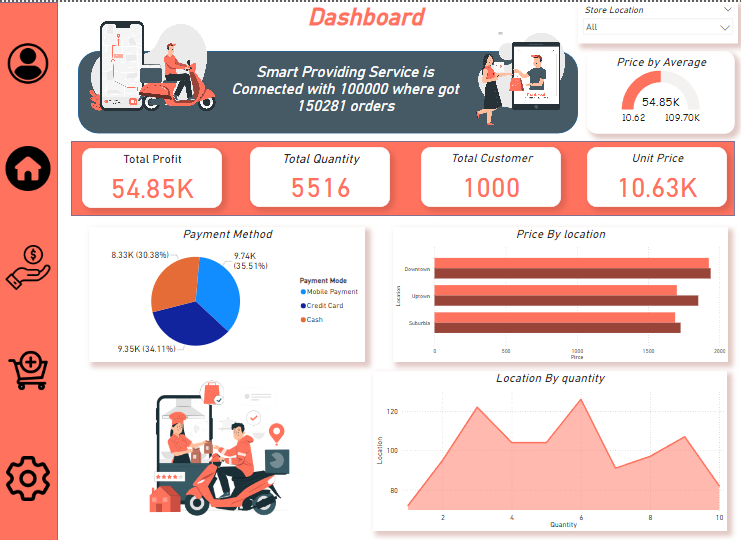

Layout of this report page (visuals, bound fields, positions):
{"tool":"powerbi","page":{"name":"Page 2","canvas":[1500,1080],"ordinal":1},"visuals":[{"type":"textbox","title":"Dashboard","box":[455,0,557.5,70],"z":0},{"type":"shape","box":[0,0,120,1140],"z":1000},{"type":"image","box":[10,67.5,100,110],"z":2000},{"type":"shape","box":[160,97.5,1000,165],"z":3000},{"type":"textbox","title":"Smart Providing Service is Connected with 100000 where got 150281 orders","box":[440,122.5,507.5,115],"z":4000},{"type":"image","box":[10,277.5,100,110],"z":5000},{"type":"image","box":[10,682.5,100,110],"z":6000},{"type":"image","box":[130,7.5,337.5,235],"z":7000},{"type":"shape","box":[865,200,140,40],"z":8000},{"type":"image","box":[10,897.5,100,110],"z":9000},{"type":"image","box":[10,475,100,110],"z":10000},{"type":"slicer","title":"Store Location","fields":{"Values":["data.store_location"]},"box":[1160,0,320,82.5],"z":11000},{"type":"clusteredBarChart","title":"Price By location","fields":{"Category":["data.store_location"],"Y":["Sum(data.unit_price)","Sum(data.quantity)"]},"box":[790,450,670,270],"z":12000},{"type":"pieChart","title":"Payment Method","fields":{"Category":["data.payment_method"],"Y":["Sum(data.total_price)"]},"box":[182.5,450,552.5,270],"z":13000},{"type":"shape","box":[145,277.5,1327.5,150],"z":14000},{"type":"stackedAreaChart","title":"Location By quantity ","fields":{"Category":["data.quantity"],"Y":["CountNonNull(data.store_location)"]},"box":[750,737.5,707.5,320],"z":15000},{"type":"image","box":[935,52.5,217.5,210],"z":16000},{"type":"gauge","title":"Price by Average","fields":{"Y":["Sum(data.total_price)"],"MinValue":["Avg(data.unit_price)"]},"box":[1177.5,97.5,295,165],"z":17000},{"type":"image","box":[182.5,737.5,515,317.5],"z":18000},{"type":"card","title":"Total Profit","fields":{"Values":["Sum(data.total_price)"]},"box":[167.5,292,280,120],"z":18500,"group":"g1"},{"type":"card","title":"Total Quantity","fields":{"Values":["Sum(data.quantity)"]},"box":[502.5,290,280,120],"z":19000,"group":"g1"},{"type":"group","id":"g1","title":"Group 1","box":[167.5,290,1290,122],"z":19000},{"type":"card","title":"Total Customer","fields":{"Values":["Count(data.transaction_id)"]},"box":[845,290,280,120],"z":19500,"group":"g1"},{"type":"card","title":"Unit Price","fields":{"Values":["Sum(data.unit_price)"]},"box":[1177.5,290,280,120],"z":20000,"group":"g1"}]}

Visuals, with their boxes on the page's 1500x1080 design canvas (x1, y1, x2, y2). These are canvas units, not pixel positions in the 741x540 screenshot, which may show the page scaled, cropped or inside an application window:
"Dashboard" textbox: x1=455, y1=0, x2=1012, y2=70
shape: x1=0, y1=0, x2=120, y2=1140
image: x1=10, y1=68, x2=110, y2=178
shape: x1=160, y1=98, x2=1160, y2=262
"Smart Providing Service is Connected with 100000 where got 150281 orders" textbox: x1=440, y1=122, x2=948, y2=238
image: x1=10, y1=278, x2=110, y2=388
image: x1=10, y1=682, x2=110, y2=792
image: x1=130, y1=8, x2=468, y2=242
shape: x1=865, y1=200, x2=1005, y2=240
image: x1=10, y1=898, x2=110, y2=1008
image: x1=10, y1=475, x2=110, y2=585
"Store Location" slicer: x1=1160, y1=0, x2=1480, y2=82
"Price By location" clusteredBarChart: x1=790, y1=450, x2=1460, y2=720
"Payment Method" pieChart: x1=182, y1=450, x2=735, y2=720
shape: x1=145, y1=278, x2=1472, y2=428
"Location By quantity " stackedAreaChart: x1=750, y1=738, x2=1458, y2=1058
image: x1=935, y1=52, x2=1152, y2=262
"Price by Average" gauge: x1=1178, y1=98, x2=1472, y2=262
image: x1=182, y1=738, x2=698, y2=1055
"Total Profit" card: x1=168, y1=292, x2=448, y2=412
"Total Quantity" card: x1=502, y1=290, x2=782, y2=410
"Group 1" group: x1=168, y1=290, x2=1458, y2=412
"Total Customer" card: x1=845, y1=290, x2=1125, y2=410
"Unit Price" card: x1=1178, y1=290, x2=1458, y2=410
